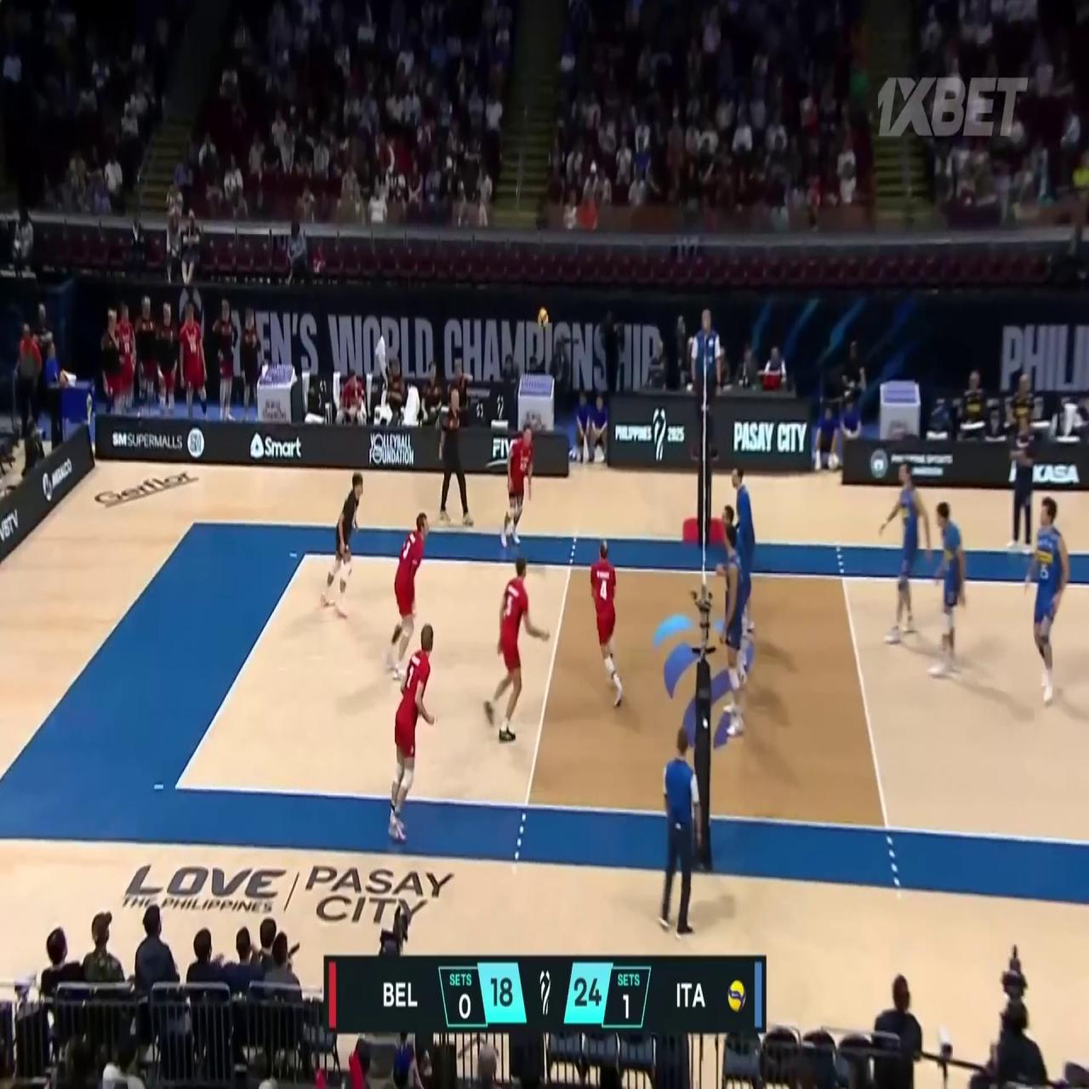ball: (538, 308, 549, 330)
